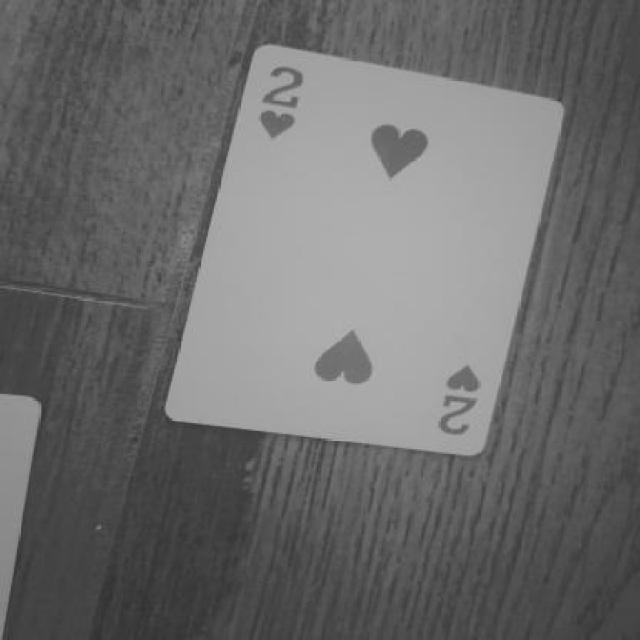2H: (416, 343, 507, 445), (243, 69, 329, 154)
